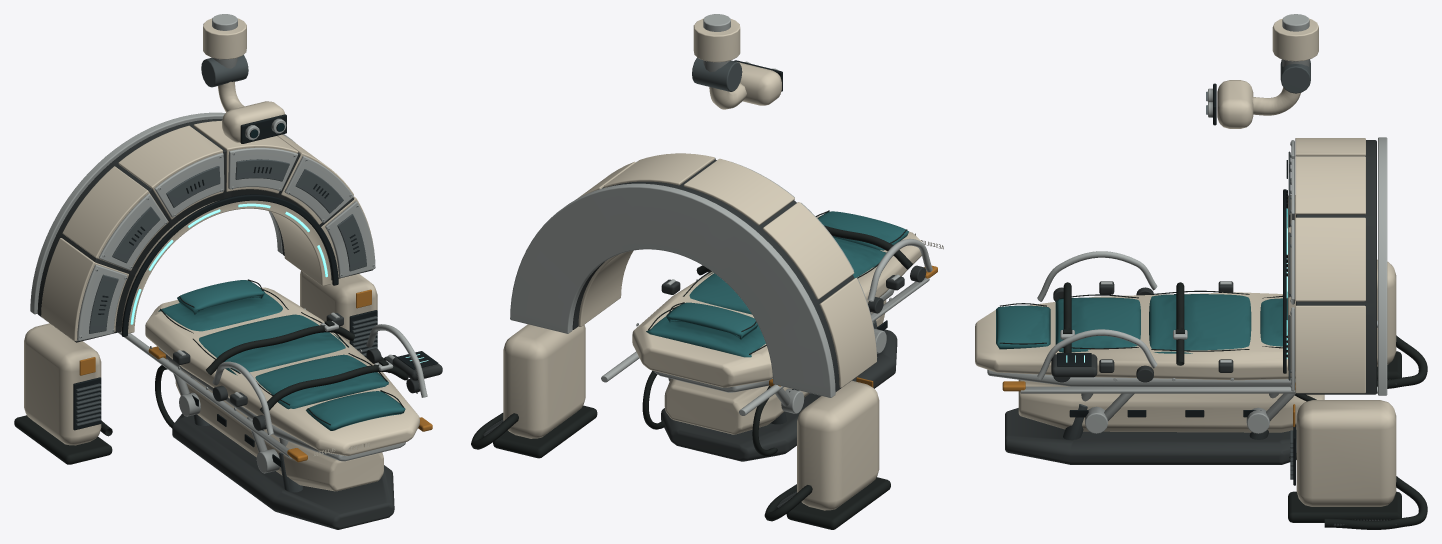
Rendered from examination-standard.glb.
3 views of the same model, side by side, from view 1: azimuth 30°, elevation 25°; view 2: azimuth 150°, elevation 25°; view 3: azimuth 270°, elevation 25° (orthographic). The views are drawn at different scales.
Visible parts, largest first — view 1: examination__Ceramic medical shell, examination__Satin aluminium, examination__Medical upholstery, examination__Coated pressure frame, examination__Recessed titanium panels, examination__Recess and gasket, examination__Restraint webbing, examination__Ochre anodized service fittings, examination__Scanner sensing indicator; view 2: examination__Ceramic medical shell, examination__Satin aluminium, examination__Coated pressure frame, examination__Medical upholstery, examination__Restraint webbing, examination__Recessed titanium panels; view 3: examination__Ceramic medical shell, examination__Coated pressure frame, examination__Satin aluminium, examination__Medical upholstery, examination__Restraint webbing, examination__Recess and gasket, examination__Recessed titanium panels.
Part boxes in pixels (bbox=[...]): examination__Ceramic medical shell: bbox=[24, 18, 419, 491]; examination__Satin aluminium: bbox=[30, 14, 427, 473]; examination__Medical upholstery: bbox=[158, 280, 405, 430]; examination__Coated pressure frame: bbox=[37, 119, 442, 529]; examination__Recessed titanium panels: bbox=[76, 55, 377, 492]; examination__Recess and gasket: bbox=[73, 114, 438, 467]; examination__Restraint webbing: bbox=[14, 279, 408, 464]; examination__Ochre anodized service fittings: bbox=[79, 289, 432, 462]; examination__Scanner sensing indicator: bbox=[130, 203, 428, 362]; examination__Ceramic medical shell: bbox=[503, 18, 922, 510]; examination__Satin aluminium: bbox=[510, 14, 932, 415]; examination__Coated pressure frame: bbox=[483, 160, 926, 508]; examination__Medical upholstery: bbox=[646, 211, 908, 357]; examination__Restraint webbing: bbox=[471, 210, 912, 529]; examination__Recessed titanium panels: bbox=[692, 57, 880, 424]; examination__Ceramic medical shell: bbox=[975, 18, 1396, 506]; examination__Coated pressure frame: bbox=[1005, 140, 1396, 526]; examination__Satin aluminium: bbox=[987, 14, 1387, 433]; examination__Medical upholstery: bbox=[996, 292, 1287, 353]; examination__Restraint webbing: bbox=[999, 282, 1427, 529]; examination__Recess and gasket: bbox=[1057, 83, 1295, 485]; examination__Recessed titanium panels: bbox=[1063, 59, 1310, 479].
Size of the model in its own units: 2.85 by 3.23 by 3.15.
